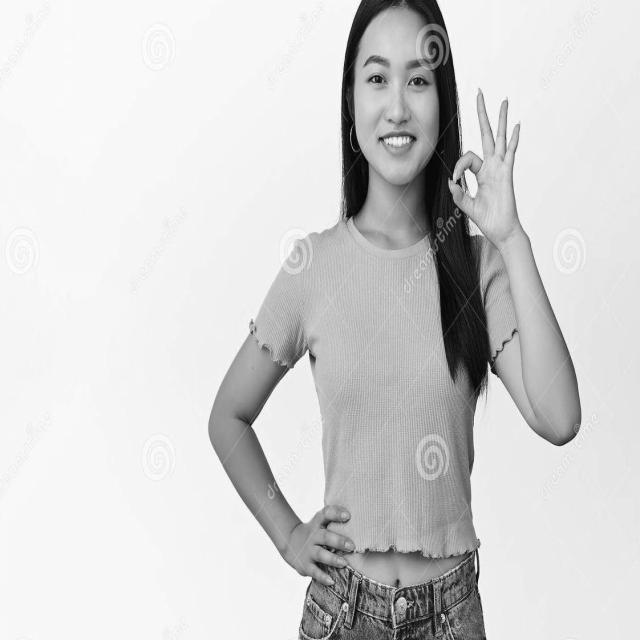perfect: (443, 77, 530, 258)
